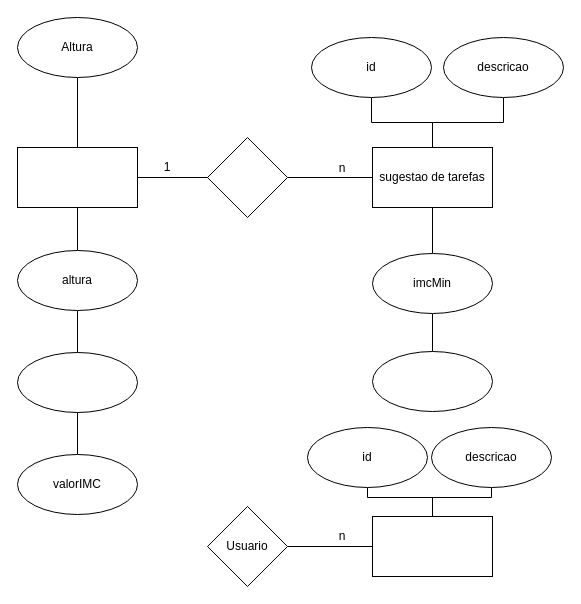
Image size: 581x604. Some labels were removed from this diagram. The shapes that lost their labels are listed below. From the top down, each one's centre as x and y in pixels, then its label:
(77,177): IMC
(247,177): sugerir
(77,382): peso
(432,381): imcMax
(432,546): TarefaUsuario
